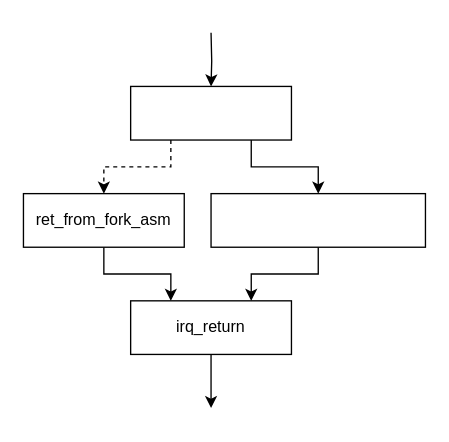
Image size: 449x442. Some labels were removed from this diagram. The centre of each missing label's shape, as x and y in pixels:
"\cfunc" belongs at point 210,112.
"handle_exception_return" belongs at point 317,219.
